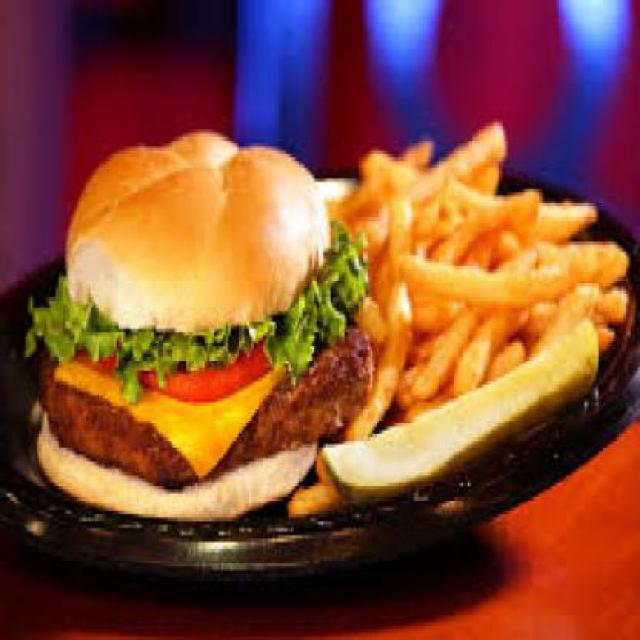french fries: (368, 101, 630, 413)
hamburger: (21, 120, 368, 528)
